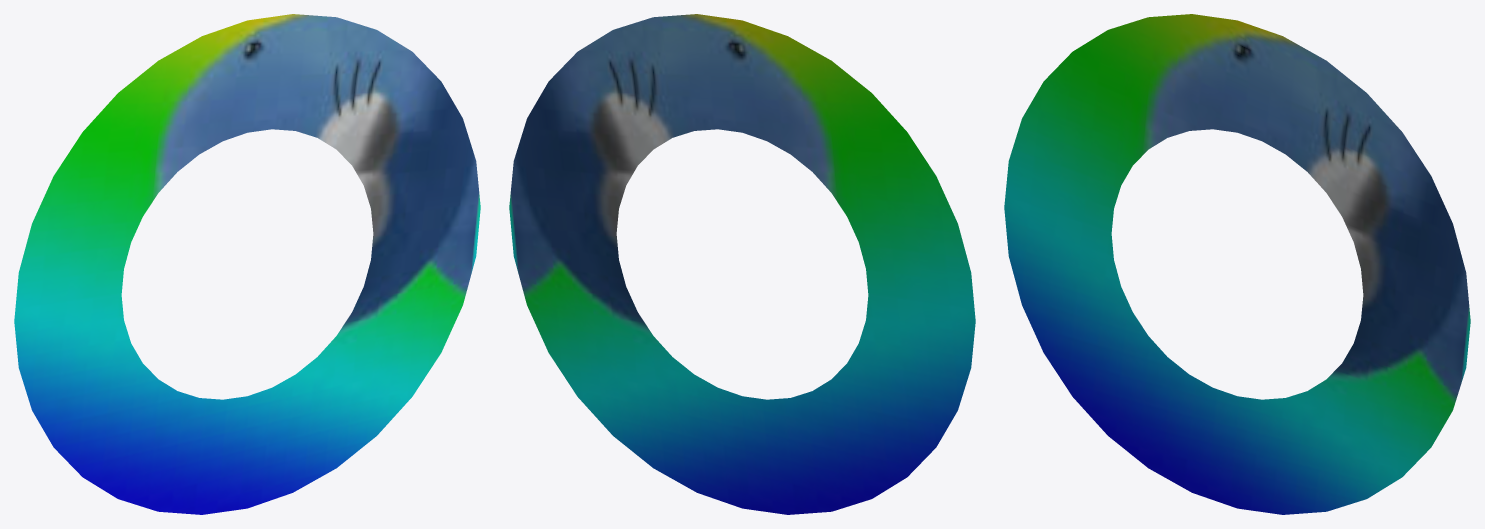
Rendered from bonobono.fbx.
3 views of the same model, side by side, from view 1: azimuth 30°, elevation 25°; view 2: azimuth 150°, elevation 25°; view 3: azimuth 330°, elevation 25° (orthographic).
Parts seen in each view (by area): view 1: 원형; view 2: 원형; view 3: 원형.
Part boxes in pixels (x1,y1,x2,y2): 원형: (14,14,480,514); 원형: (509,14,975,514); 원형: (1004,14,1470,514).
Size of the model in its own units: 200 by 200 by 0.
